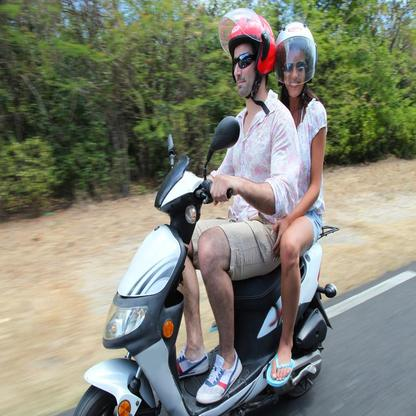target: (74, 6, 340, 414)
